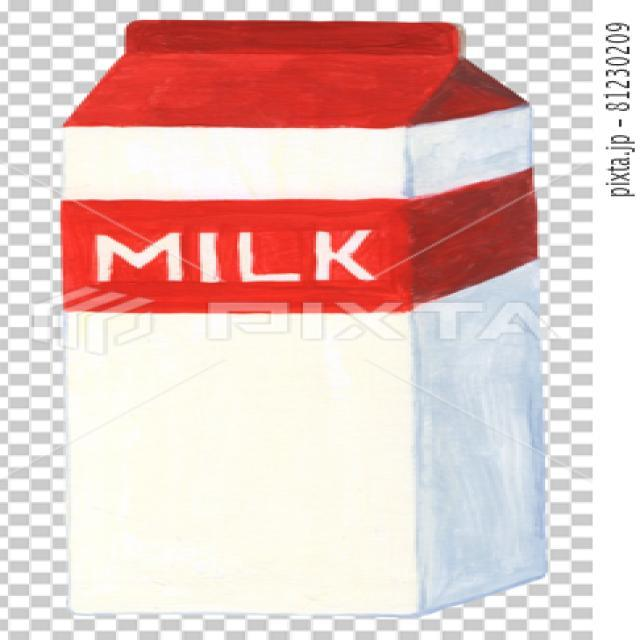Carton: (48, 1, 564, 640)
